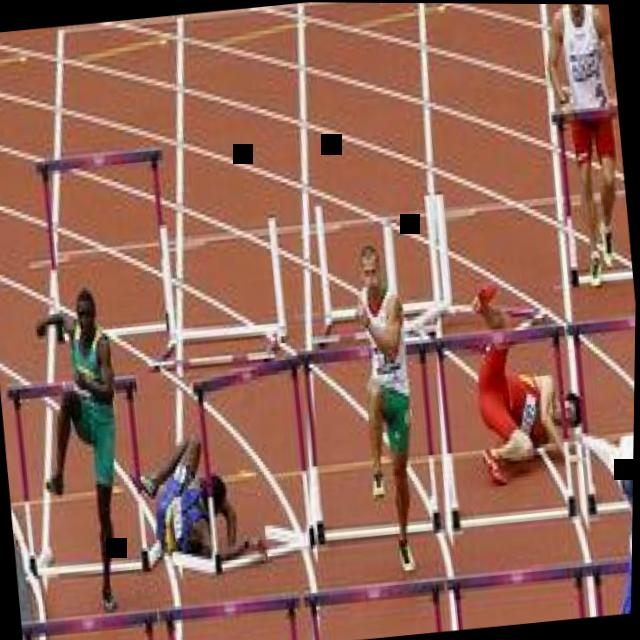Fall-Detected: (130, 410, 262, 572)
